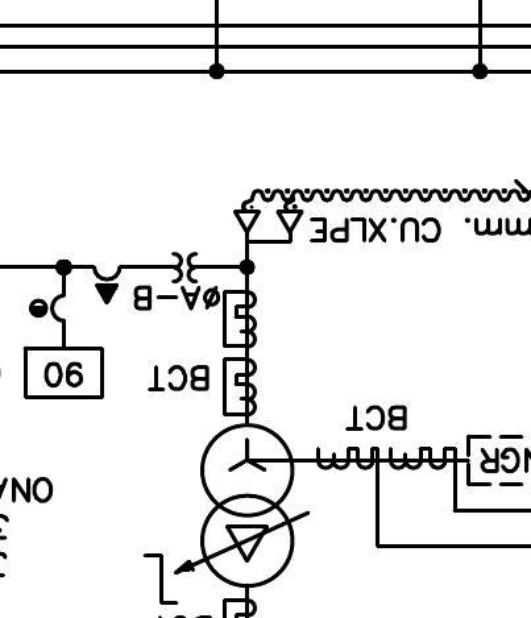11522_tx_dyn1: (199, 422, 295, 589)
terminator_double: (233, 209, 304, 245)
